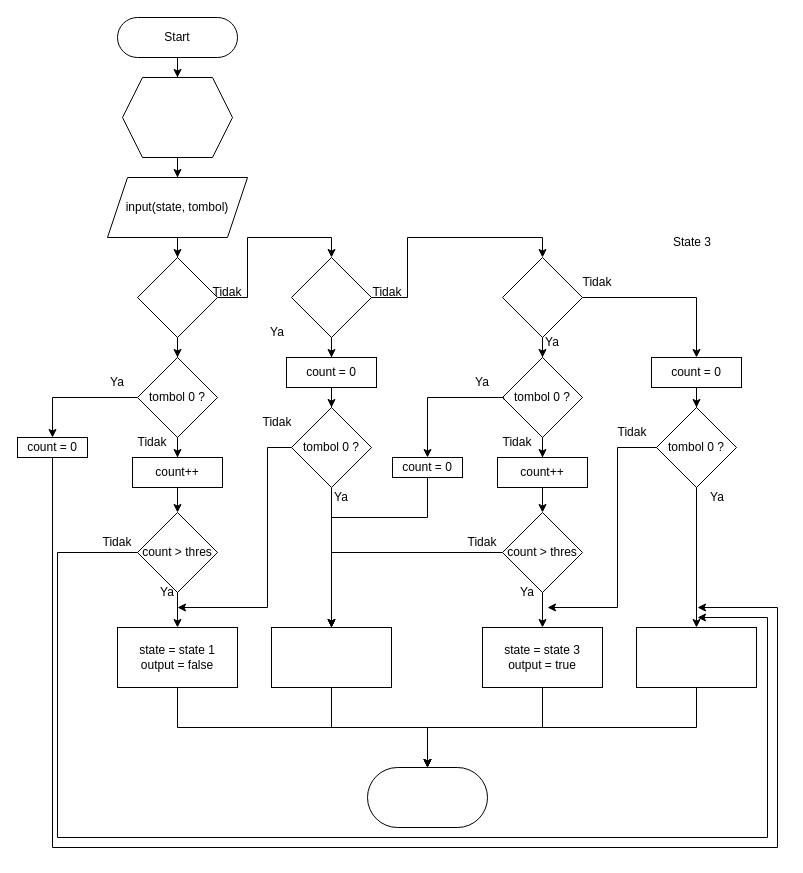
This 803x873 diagram has some shape labels left out. Each missing label, with the centre of its shape:
"Inisialisasi state, dan variabel yang digunakan" belongs at (177,117).
"return output" belongs at (427,797).
"state 0 ?" belongs at (177,297).
"state 1 ?" belongs at (331,297).
"state 2 ?" belongs at (542,297).
"state = state 0" belongs at (696,657).
"state = state 2" belongs at (331,657).
